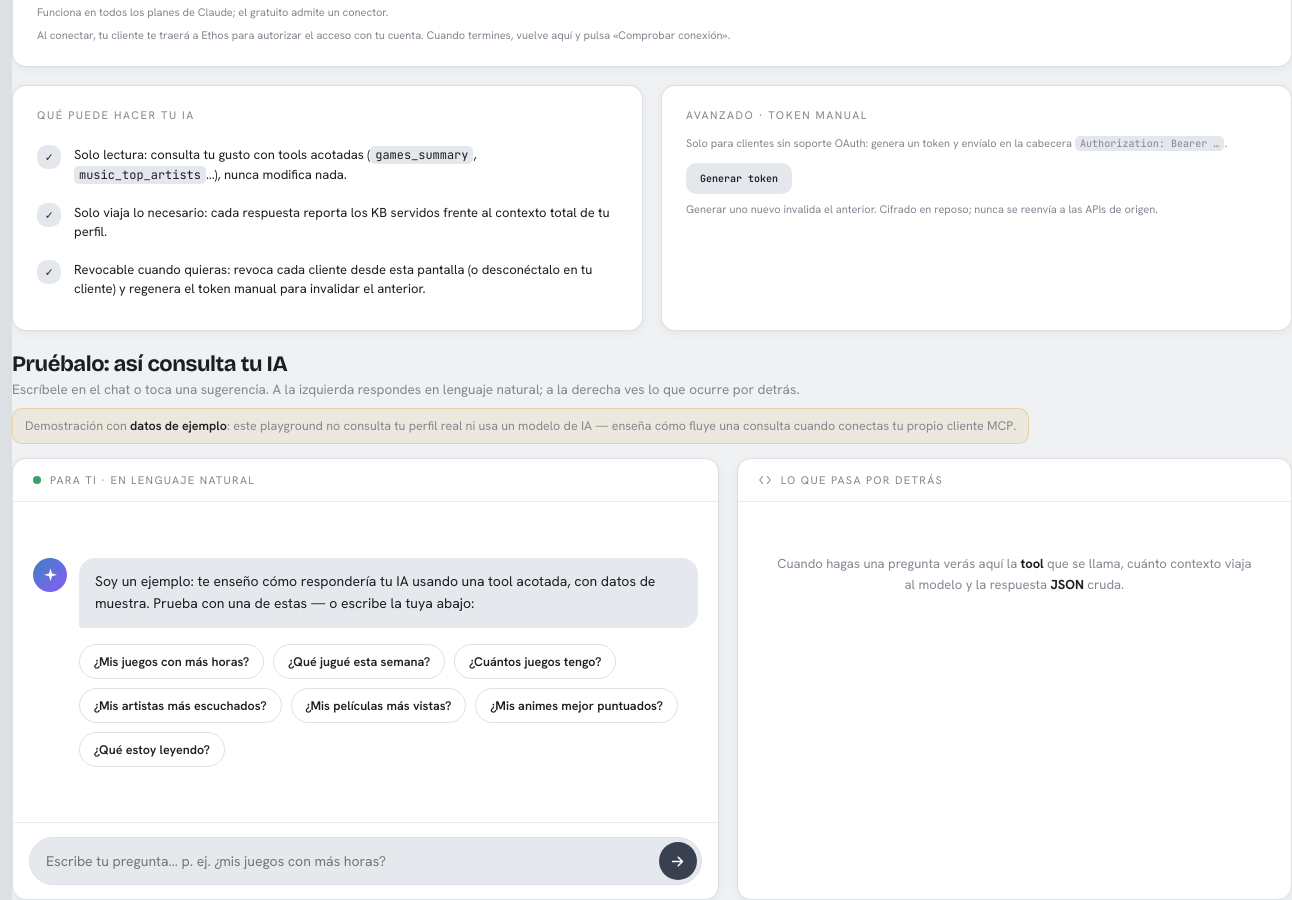
Test case: ConnectAi › una consulta sin categoría reconocible cae en profile.search
(page scrolled)
Type "¿mi comida preferida?" into the field labelled "Escribe tu pregunta… p. ej. ¿mis juegos con más horas?" at {"x": 348, "y": 861}, box [46,843,651,879]
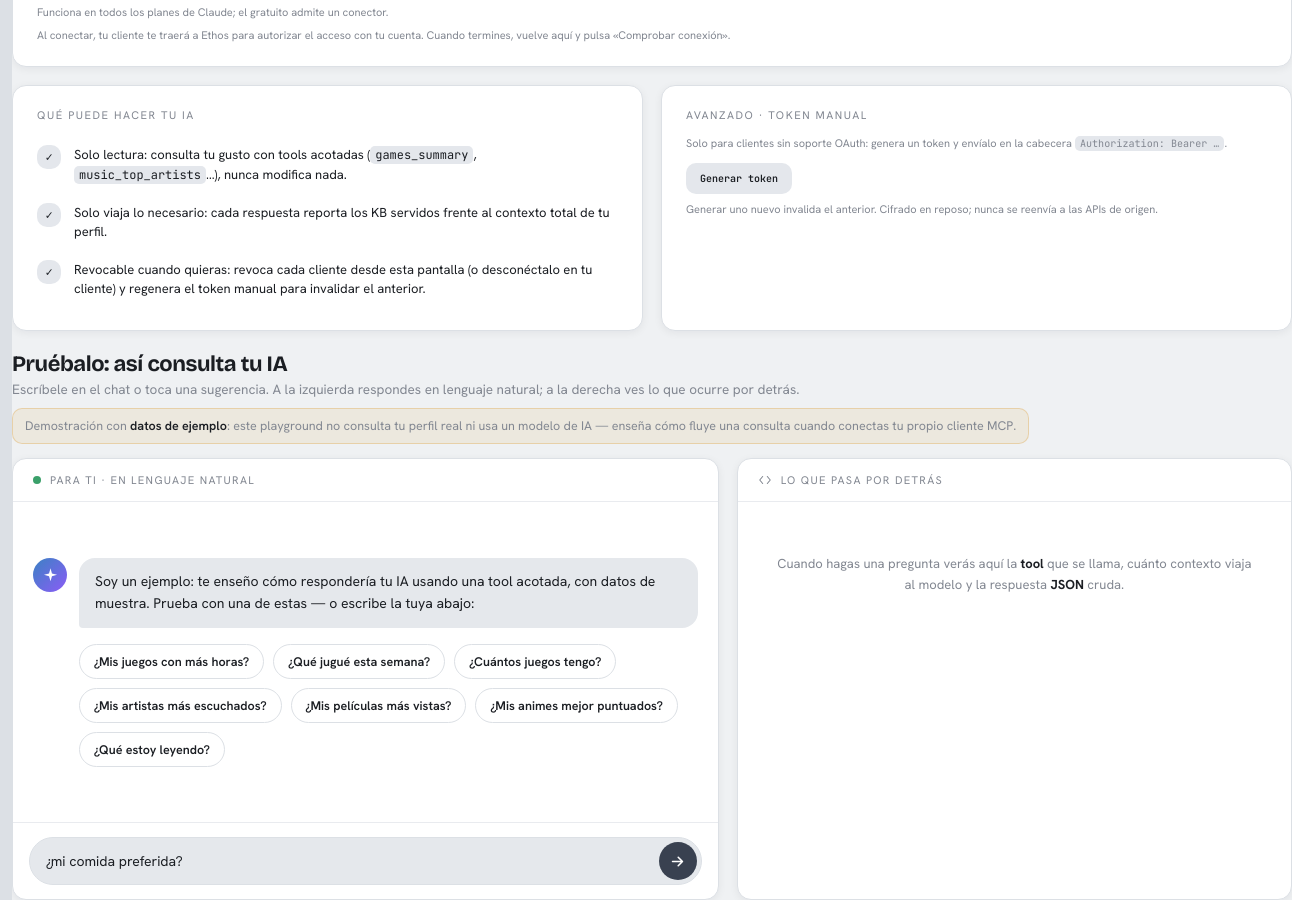
Press Enter in the field named "Escribe tu pregunta", box [46,843,651,879]
Wait 800 ms
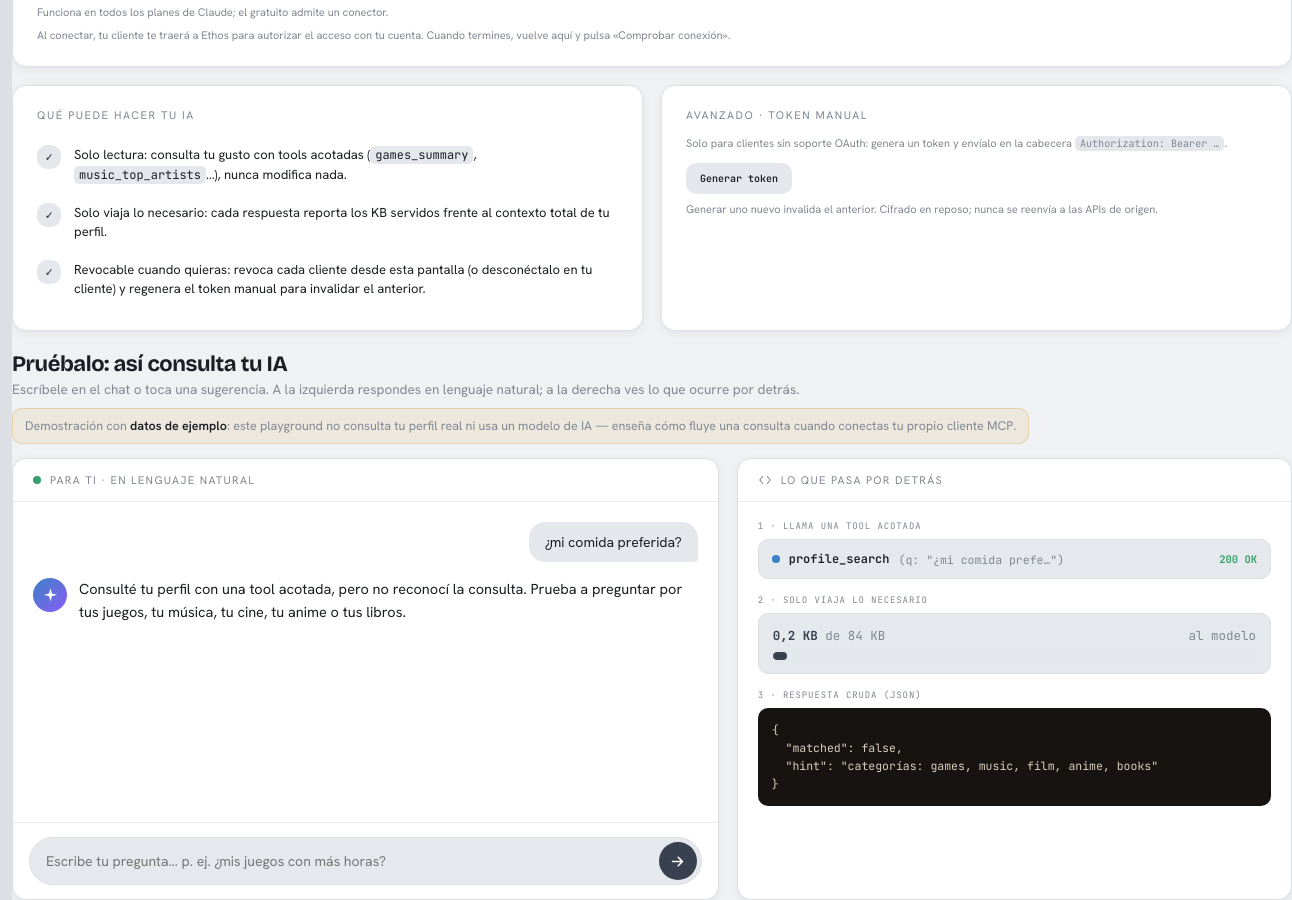
Check: the text "profile_search" is shown, box [789,551,890,567]
